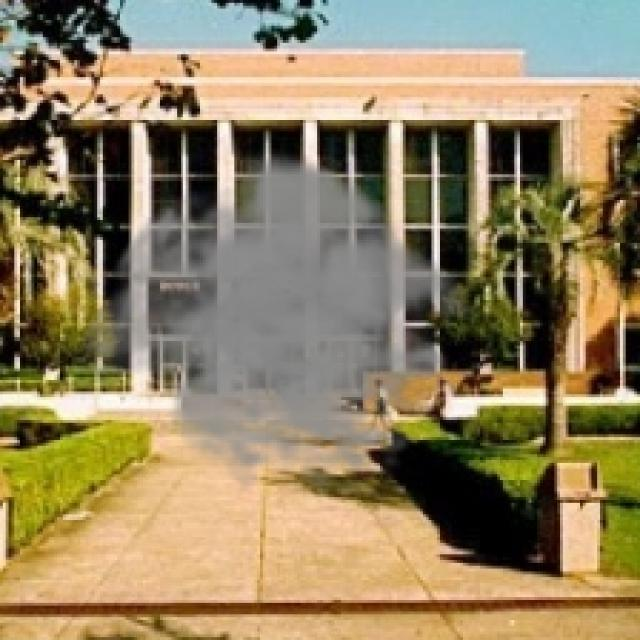smoke: (74, 148, 486, 492)
